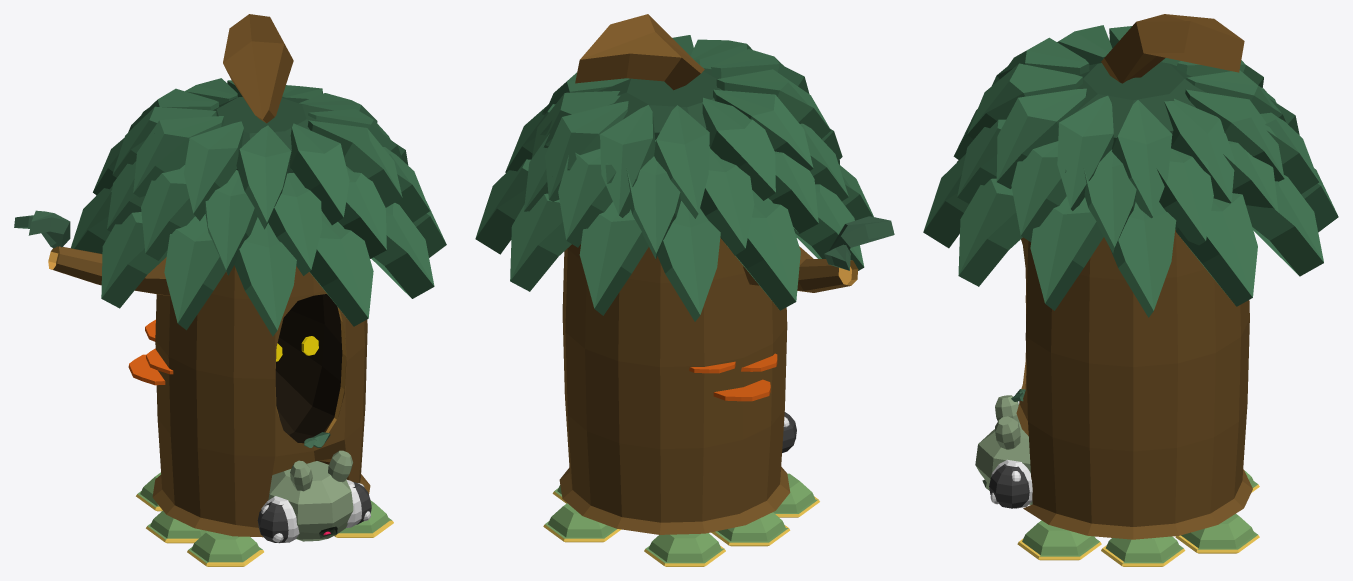
The model's file is modelo3larvaLowPolyFinal2.fbx.
3 views of the same model, side by side, from view 1: azimuth 30°, elevation 25°; view 2: azimuth 150°, elevation 25°; view 3: azimuth 270°, elevation 25° (orthographic). The views are drawn at different scales.
Visible parts, largest first — view 1: Cylinder.001, Plane.027, Plane.034, Plane.031, Cylinder.007, Plane.033, Plane.030, Plane.035, Cylinder.011, Plane.032, Cylinder.003, Plane.028 (+13 smaller); view 2: Cylinder.001, Plane.030, Plane.032, Plane.028, Plane.034, Plane.026, Plane.035, Cylinder.003, Plane.033, Plane.029, Plane.031, Cylinder.026 (+7 smaller); view 3: Cylinder.001, Plane.026, Plane.033, Plane.029, Plane.027, Plane.034, Plane.035, Plane.032, Cylinder.003, Plane.031, Plane.028, Cylinder.012 (+6 smaller).
Part boxes in pixels (bbox=[...]): Cylinder.001: bbox=[152, 265, 370, 537]; Plane.027: bbox=[164, 203, 434, 336]; Plane.034: bbox=[133, 116, 349, 229]; Plane.031: bbox=[141, 165, 386, 275]; Cylinder.007: bbox=[275, 294, 342, 443]; Plane.033: bbox=[282, 85, 402, 207]; Plane.030: bbox=[71, 186, 167, 308]; Plane.035: bbox=[223, 14, 293, 123]; Cylinder.011: bbox=[268, 461, 353, 541]; Plane.032: bbox=[112, 78, 242, 177]; Cylinder.003: bbox=[213, 96, 333, 173]; Plane.028: bbox=[93, 138, 145, 231]; Cylinder.001: bbox=[559, 236, 790, 534]; Plane.030: bbox=[579, 184, 864, 321]; Plane.032: bbox=[545, 97, 775, 218]; Plane.028: bbox=[558, 140, 818, 259]; Plane.034: bbox=[690, 39, 830, 170]; Plane.026: bbox=[475, 159, 571, 291]; Plane.035: bbox=[575, 14, 704, 90]; Cylinder.003: bbox=[597, 68, 721, 139]; Plane.033: bbox=[531, 35, 693, 158]; Plane.029: bbox=[505, 104, 555, 211]; Plane.031: bbox=[800, 123, 848, 201]; Cylinder.026: bbox=[645, 533, 724, 563]; Cylinder.001: bbox=[1016, 229, 1252, 539]; Plane.026: bbox=[1030, 175, 1323, 317]; Plane.033: bbox=[996, 88, 1234, 218]; Plane.029: bbox=[1011, 141, 1278, 253]; Plane.027: bbox=[923, 154, 1022, 286]; Plane.034: bbox=[967, 25, 1131, 139]; Plane.035: bbox=[1101, 14, 1244, 83]; Plane.032: bbox=[1161, 58, 1285, 181]; Cylinder.003: bbox=[1074, 62, 1205, 149]; Plane.031: bbox=[953, 109, 1005, 203]; Plane.028: bbox=[1260, 87, 1318, 194]; Cylinder.012: bbox=[1022, 520, 1099, 556].
Bounding box in the file's own units: 442 × 524 × 385.
